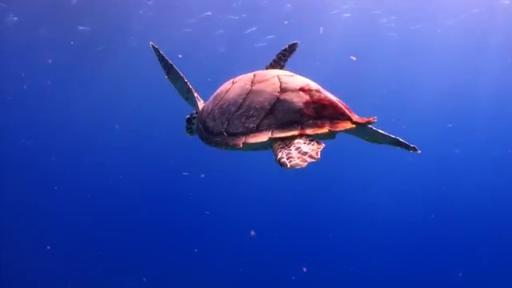Fish: (151, 42, 419, 168)
